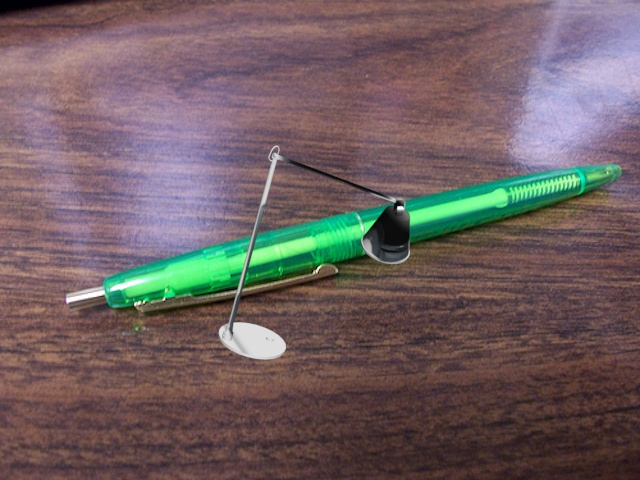desk_lamp: (217, 145, 416, 360)
